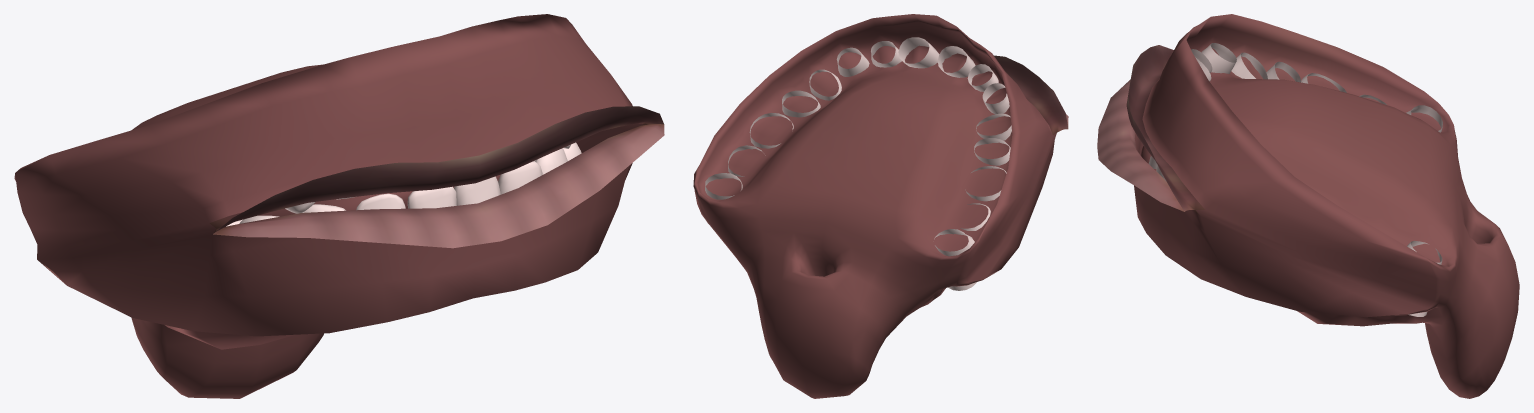
The model's file is teeethy.fbx.
3 renders of one model, left to right at view 1: azimuth 30°, elevation 25°; view 2: azimuth 150°, elevation 25°; view 3: azimuth 270°, elevation 25°, orthographic. The views are drawn at different scales.
Parts seen in each view (by area): view 1: body.002; view 2: body.002; view 3: body.002.
Boxes of the visible parts, box(x1,y1,x2,y2) form: body.002: box(14, 14, 664, 398); body.002: box(693, 14, 1068, 398); body.002: box(1097, 14, 1519, 398).
Bounding box in the file's own units: 68.11 × 65.92 × 71.3.
1 material, 1 textured.
